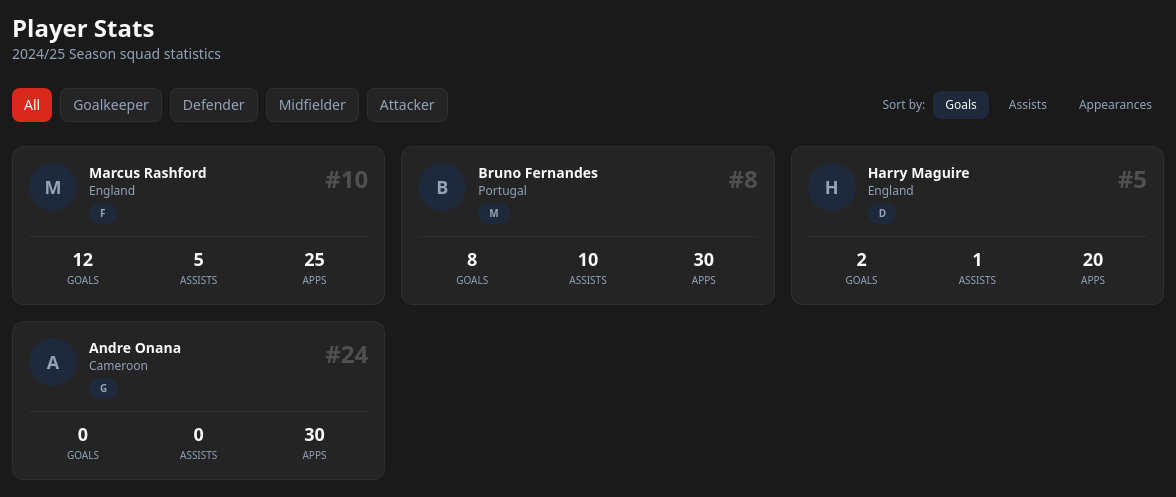
Scenario: PlayerStatsPage › filters by Attacker position
Click the button "Attacker" at (407, 105), box [367,88,448,122]
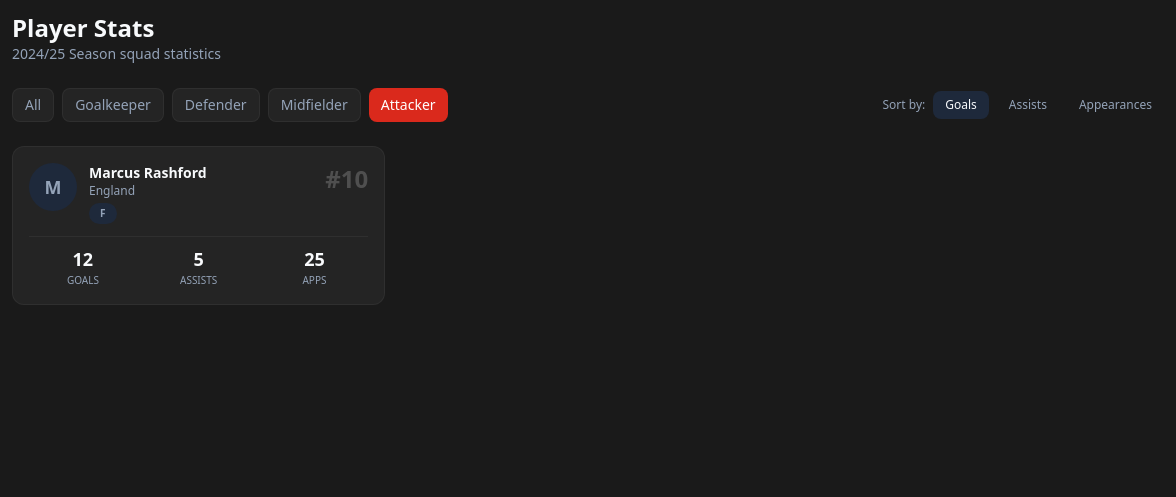
Expected: the text "Marcus Rashford" is shown, [89,163,207,182]
Result: the text "Bruno Fernandes" is gone
